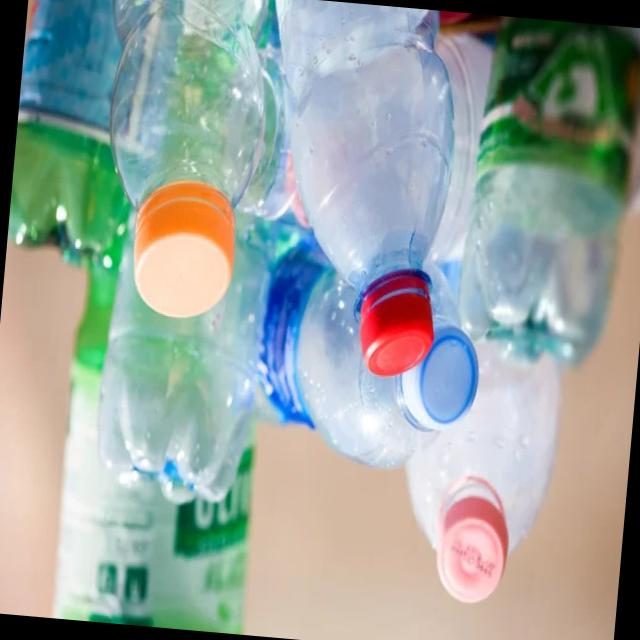plastic_bottle: (257, 0, 471, 387), (102, 0, 274, 328), (81, 225, 267, 522), (382, 356, 568, 617)
